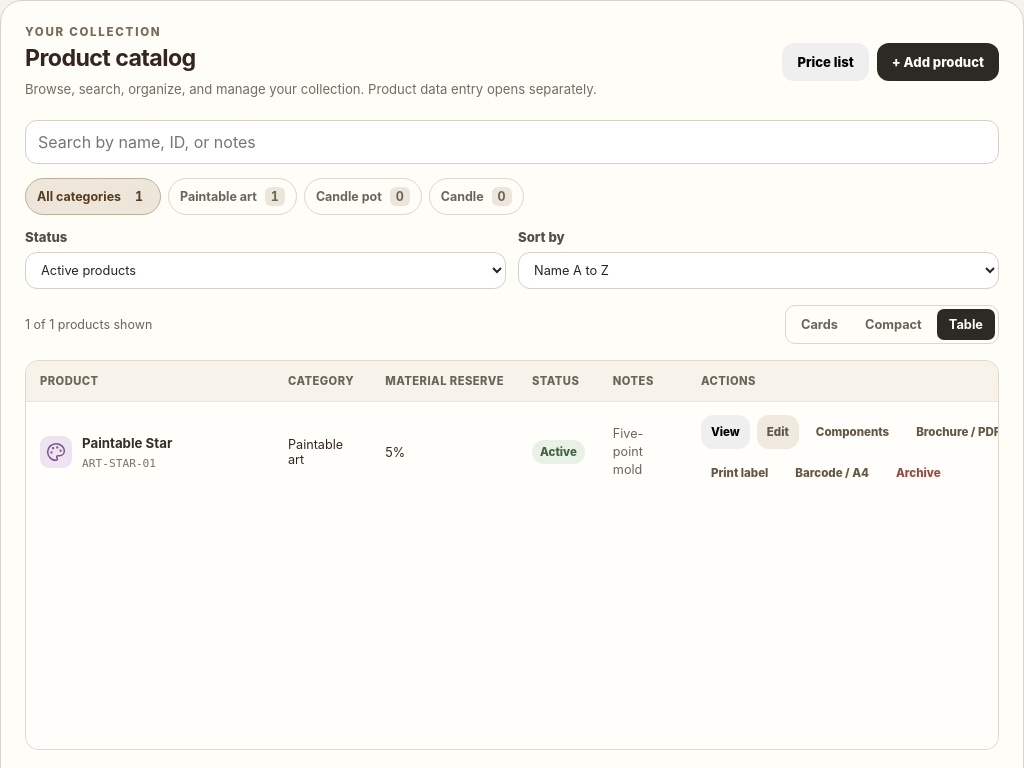
Scenario: Product catalog / editor separation › opens Edit product as a focused editor context while keeping collection state mounted but hidden
This screenshot has width=1024, height=768.
Click the button with aria-label "Edit Paintable Star" at (778, 432), box 757,415 -> 799,449
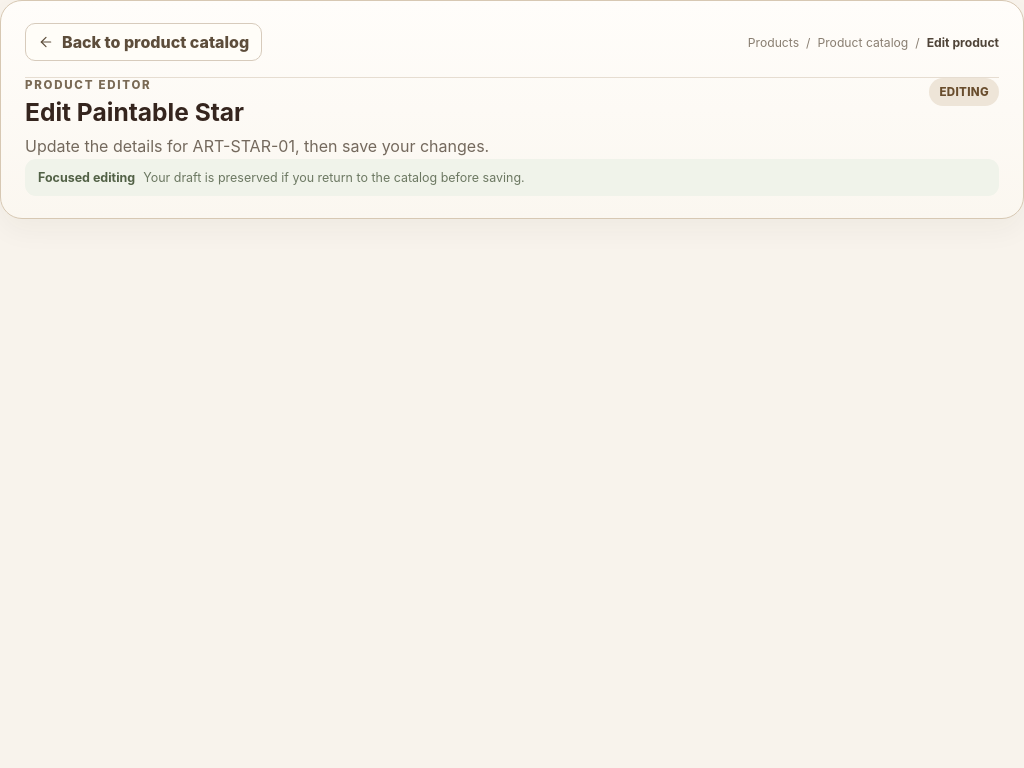
Now the element named "Product editor navigation" shows "Edit Paintable Star", box 25,97 -> 244,127
Now the element named "Product editor navigation" shows "ART-STAR-01", box 25,136 -> 489,156
